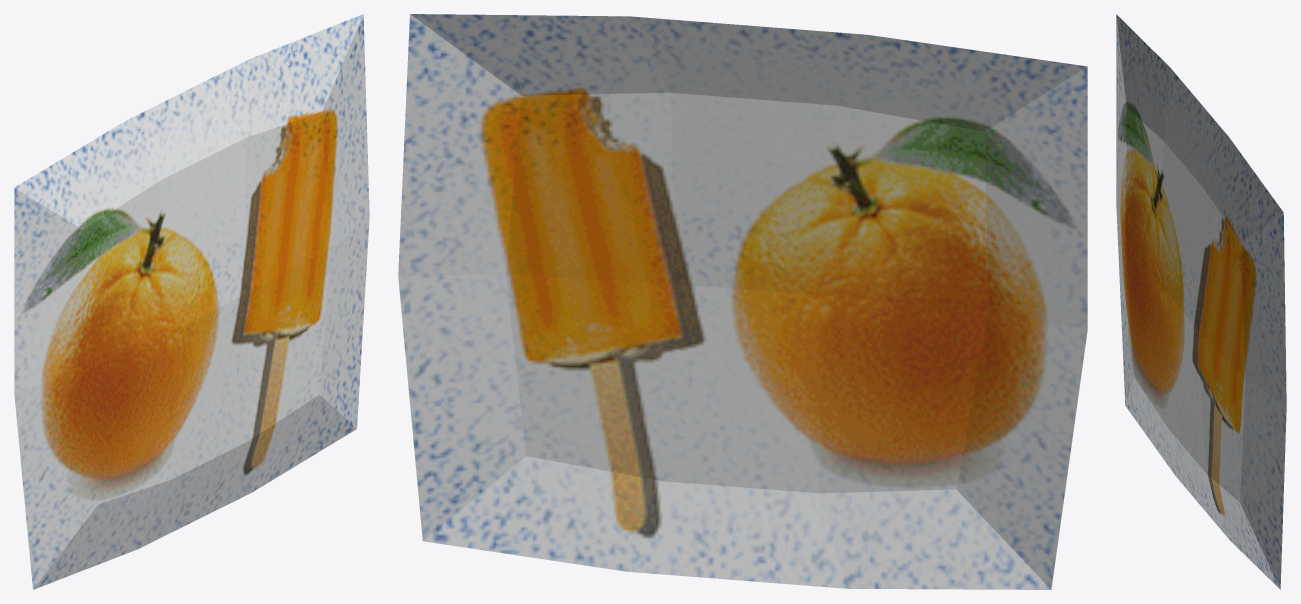
The model's file is TVOrange.glb.
3 renders of one model, left to right at view 1: azimuth 30°, elevation 25°; view 2: azimuth 150°, elevation 25°; view 3: azimuth 270°, elevation 25°, orthographic. The views are drawn at different scales.
Parts seen in each view (by area): view 1: Cube.009; view 2: Cube.009; view 3: Cube.009.
Boxes of the visible parts, x1=… form: Cube.009: x1=14, y1=14, x2=369, y2=589; Cube.009: x1=398, y1=14, x2=1087, y2=589; Cube.009: x1=1116, y1=14, x2=1286, y2=589.
Bounding box in the file's own units: 0.774 × 0.7185 × 0.2758.
1 material, 1 textured.
